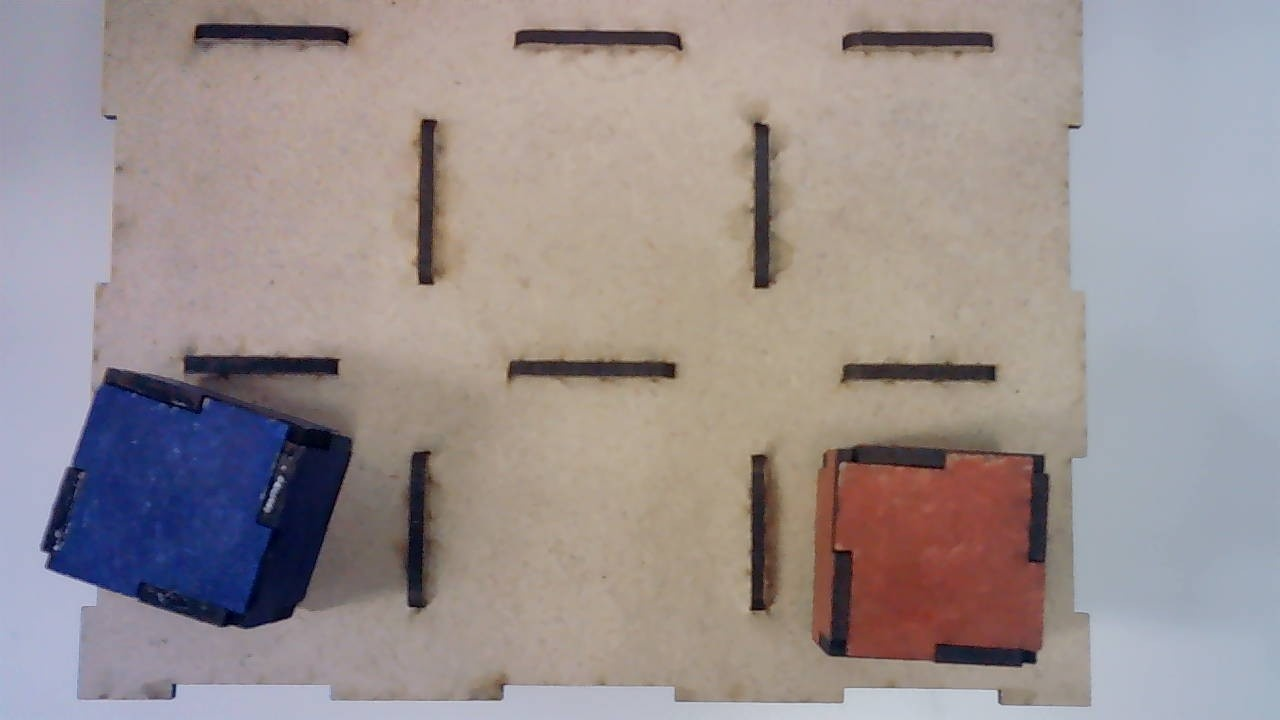blue box: (38, 367, 355, 636)
red box: (811, 443, 1050, 670)
